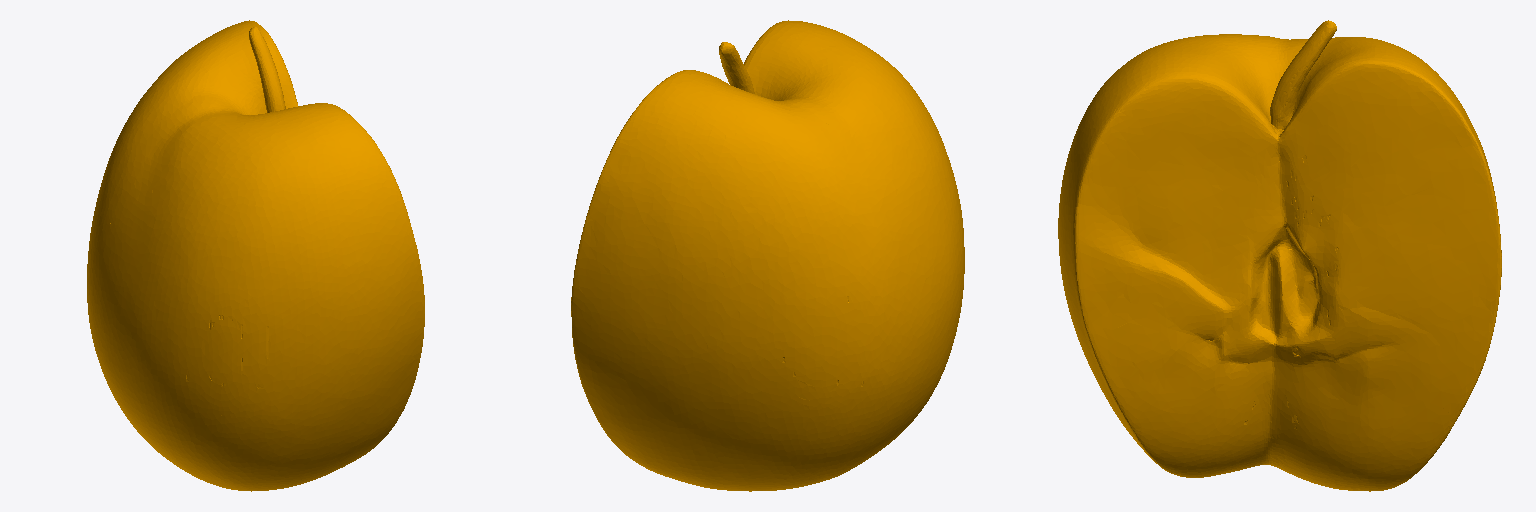
URDF robot description (sample):
<?xml version="1.0" ?>
<robot name="sample">
   <link name="sample">
      <visual>
         <origin xyz="0 0 0" rpy="1.5708 0.0 0.0"/>
         <geometry>
            <mesh filename="mesh/sample.obj" scale="1.0 1.0 1.0"/>
         </geometry>
      </visual>
      <collision>
         <origin xyz="0 0 0" rpy="1.5708 0.0 0.0"/>
         <geometry>
            <mesh filename="mesh/sample_collision.obj" scale="1.0 1.0 1.0"/>
         </geometry>
         <gazebo>
            <mu1>0.40</mu1>
            <mu2>0.30</mu2>
         </gazebo>
      </collision>
      <inertial>
         <mass value="0.1750"/>
         <origin xyz="0 0 0"/>
         <inertia ixx="1.0" ixy="0.0" ixz="0.0" iyy="1.0" iyz="0.0" izz="1.0"/>
      </inertial>
      <extra_info>
         <scale>0.090000</scale>
         <version>v0.1.7</version>
         <category>apple</category>
         <description>green apple with visible stem and core in front view</description>
         <min_height>0.08</min_height>
         <max_height>0.1</max_height>
         <real_height>0.09</real_height>
         <min_mass>0.15</min_mass>
         <max_mass>0.2</max_mass>
         <color>green</color>
         <rgba>[0.4, 1.0, 0.4, 1.0]</rgba>
         <generate_time>20260526150820</generate_time>
         <gs_model>mesh/sample_gs.ply</gs_model>
      </extra_info>
   </link>
   <custom_data>
      <quality>
         <MeshGeoChecker>NO: apple appears incomplete, missing half in some views, inconsistent geometry.</MeshGeoChecker>
         <ImageSegChecker>NO. Background not fully removed; visible artifacts and incomplete edge extraction.</ImageSegChecker>
         <ImageAestheticChecker>4.4789488315582275</ImageAestheticChecker>
         <overall>NO</overall>
      </quality>
   </custom_data>
</robot>

--- What the picture shows (computed from the rendered views, not written in the file) ---
The picture shows the robot from 3 angles, left to right: view 1: azimuth 30°, elevation 25°; view 2: azimuth 150°, elevation 25°; view 3: azimuth 270°, elevation 25°; orthographic projection.
Model sample with 1 links and 0 joints (none), rooted at sample, posed every joint at zero.
Visible links, largest first — view 1: sample; view 2: sample; view 3: sample.
Link boxes in pixels (bbox=[...]): sample: bbox=[87, 20, 424, 491]; sample: bbox=[571, 20, 964, 491]; sample: bbox=[1058, 20, 1501, 491].
Size in the robot's own frame: 0.0549 by 0.0777 by 0.09 metres.
Meshes: 1 distinct files referenced, 1 mesh visuals loaded (1 OBJ).
